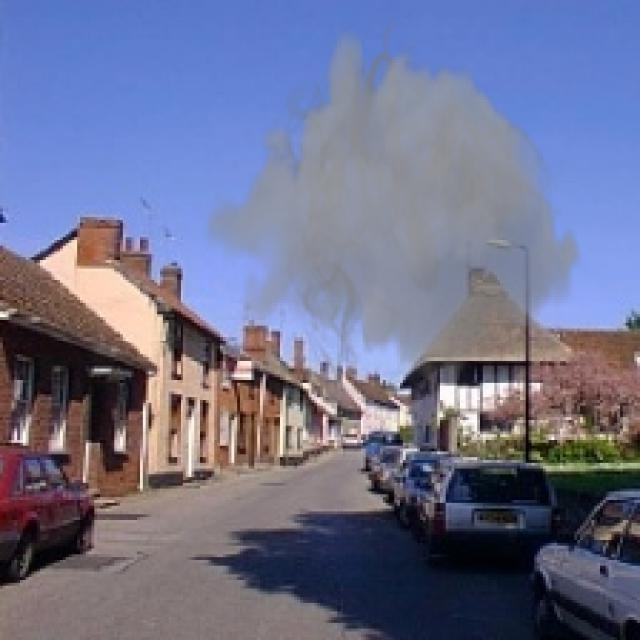smoke: (203, 14, 583, 414)
